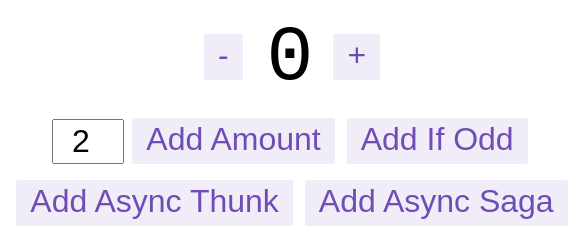
Test <Counter> Sync Button › Decrease Counter
Click the button with test id "decrement".
click(223, 57)  # box top-left (204, 34), bottom-right (243, 80)
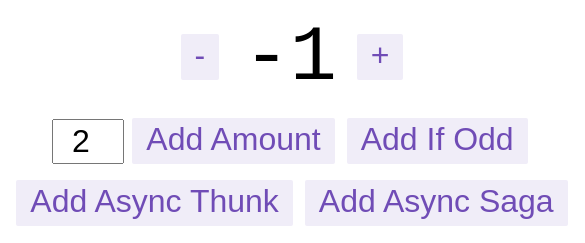
Now the text with test id "counterValue" reads "-1", box top-left (243, 14), bottom-right (337, 102)
